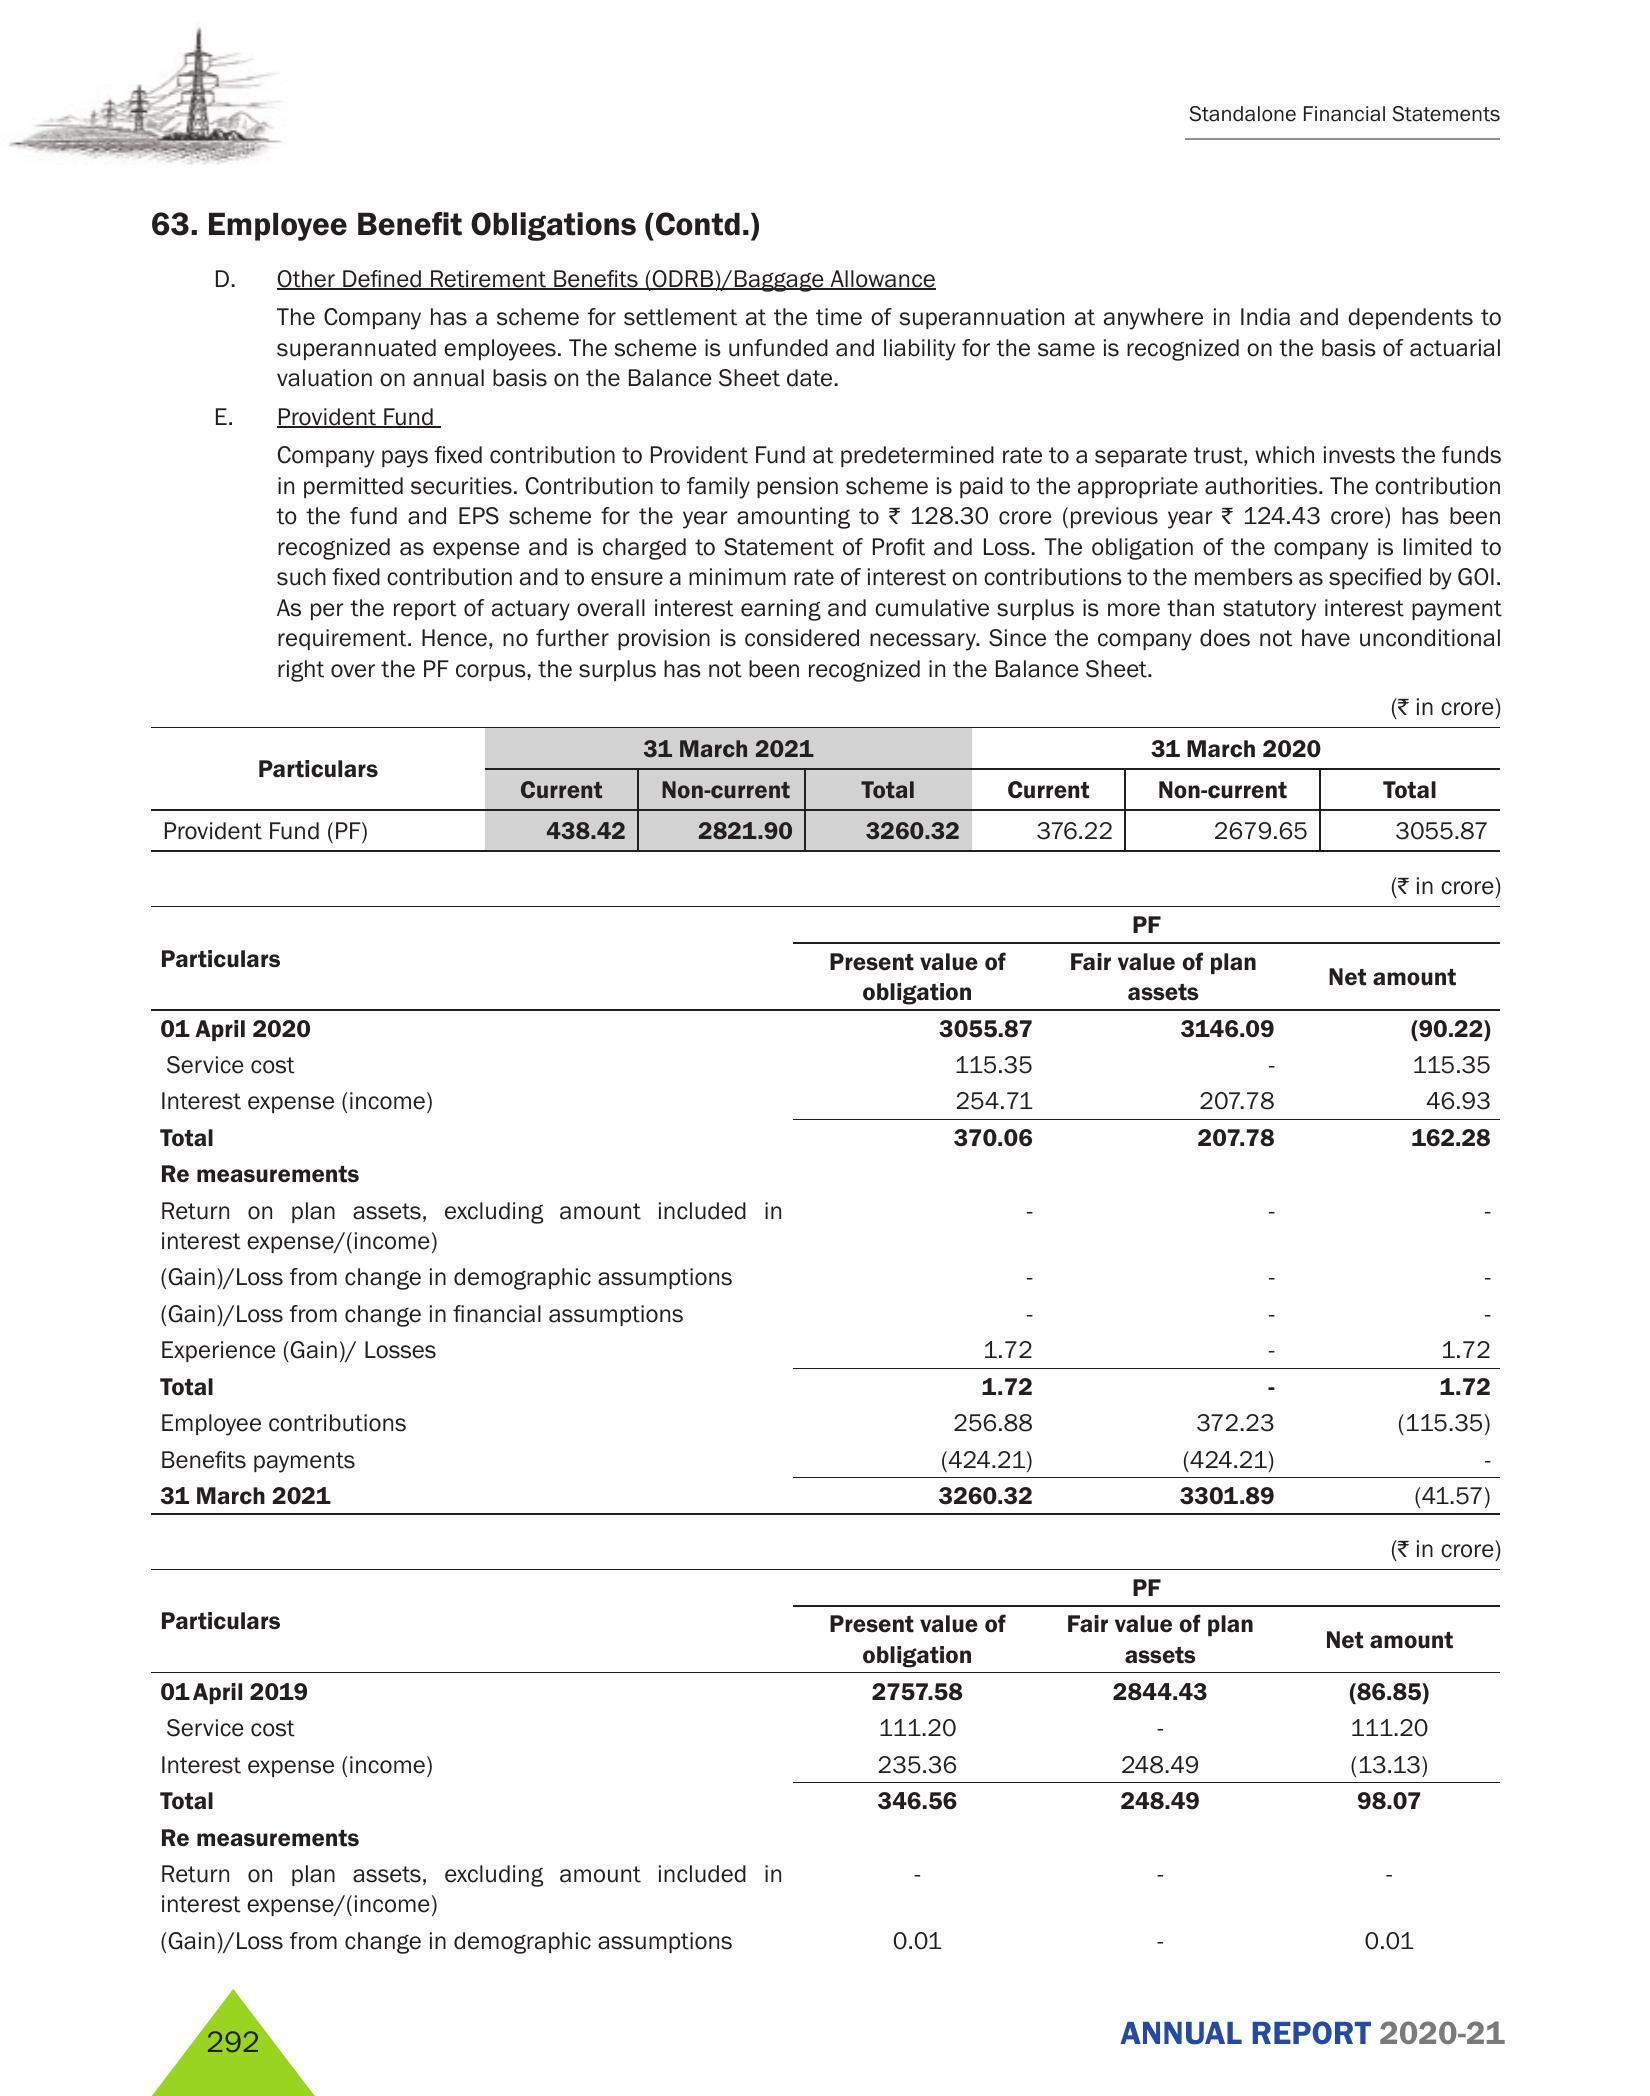Footer: (0, 1974, 1650, 2096)
Header: (0, 0, 1650, 168)
Table: (128, 903, 1505, 1512), (139, 1565, 1512, 1963), (133, 723, 1517, 852)
